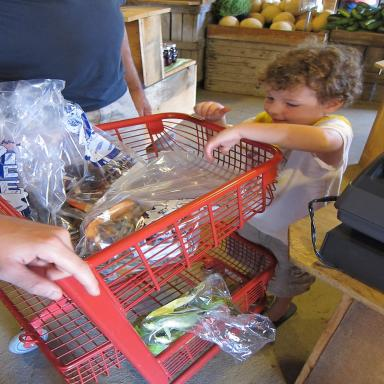plasticbag: (0, 77, 145, 236), (70, 150, 251, 268), (130, 273, 276, 363)
